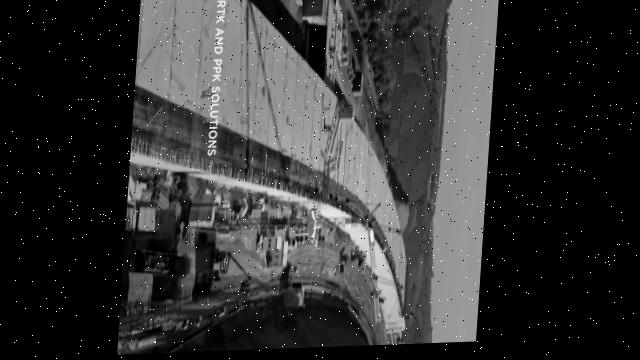drone: (295, 208, 326, 252)
